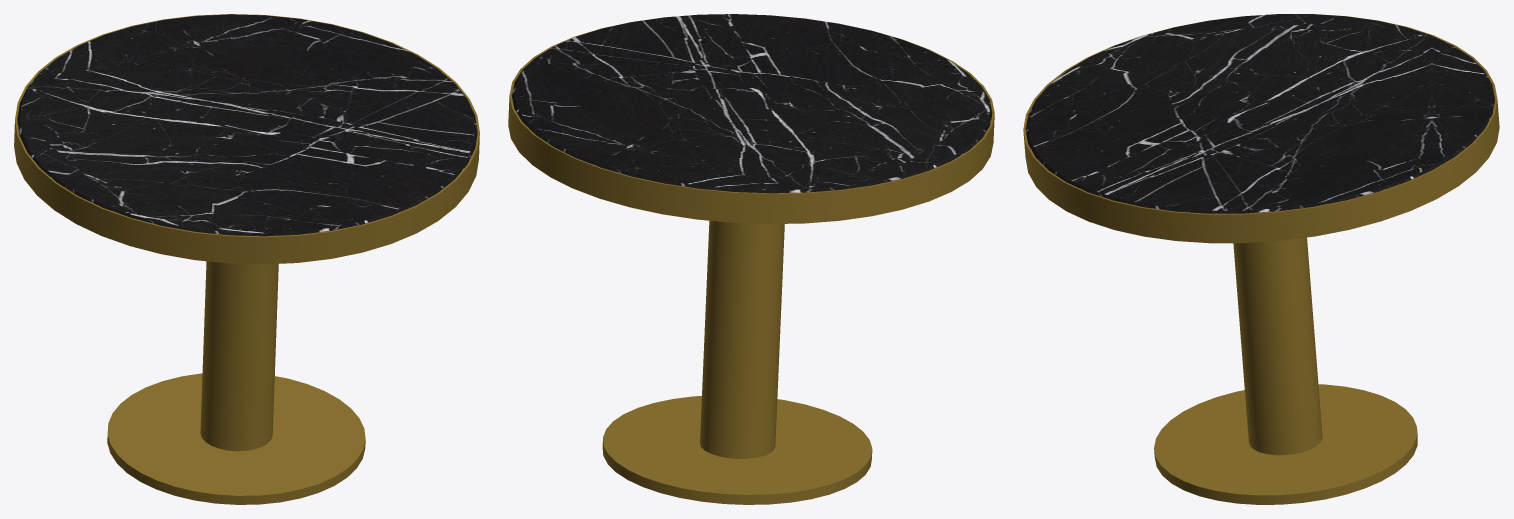
Rendered from coffee-table.glb.
3 renders of one model, left to right at view 1: azimuth 30°, elevation 25°; view 2: azimuth 150°, elevation 25°; view 3: azimuth 270°, elevation 25°, orthographic. The views are drawn at different scales.
Visible parts, largest first — view 1: Object_3, Object_4; view 2: Object_3, Object_4; view 3: Object_3, Object_4.
Boxes of the visible parts, x1,y1,x2,y2 form: Object_3: (17,14,477,236); Object_4: (14,14,479,504); Object_3: (512,14,991,193); Object_4: (508,22,994,504); Object_3: (1026,14,1494,213); Object_4: (1023,14,1499,504).
Bounding box in the file's own units: 0.4976 × 0.4202 × 0.5.
4 materials, 1 textured.
